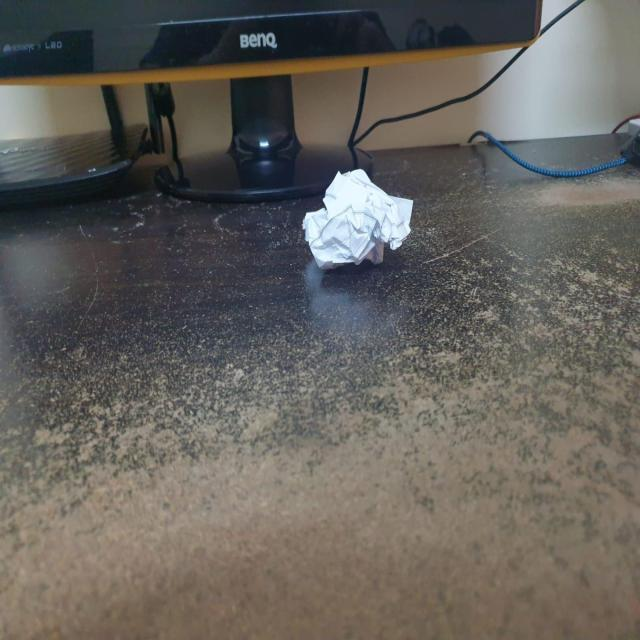cardboard paper: (302, 168, 411, 267)
